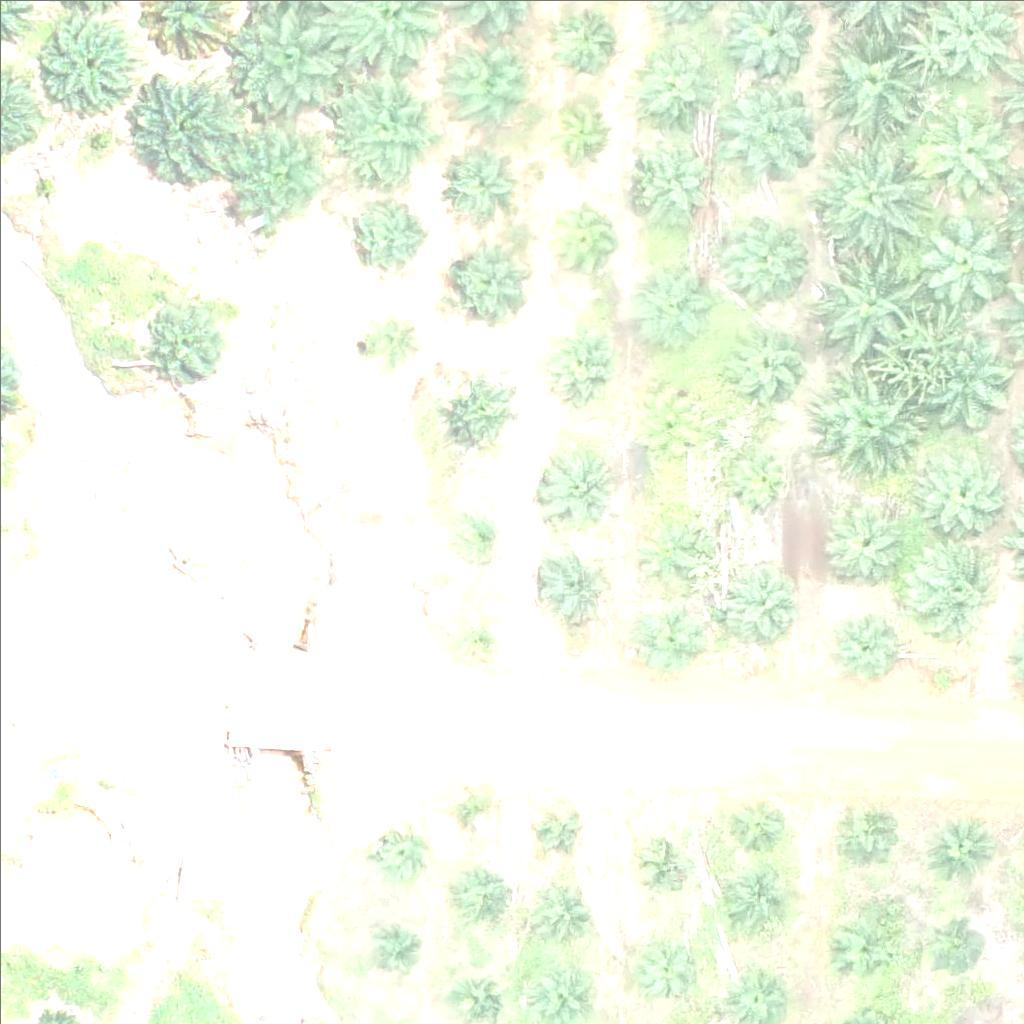Kelapa_Sawit: (121, 68, 246, 194), (811, 134, 924, 247), (220, 117, 332, 231), (31, 1, 143, 115), (330, 66, 442, 179), (815, 247, 915, 348), (824, 35, 924, 136), (443, 23, 543, 123), (821, 371, 921, 471), (899, 535, 999, 635), (441, 230, 529, 318), (629, 37, 717, 125), (723, 80, 811, 168), (916, 213, 1004, 301), (718, 210, 805, 299), (914, 446, 1001, 535), (438, 133, 525, 221), (140, 291, 227, 379), (631, 129, 718, 217), (925, 107, 1012, 195), (926, 340, 1013, 428), (715, 558, 802, 646), (820, 501, 907, 589), (537, 548, 612, 624), (827, 603, 902, 679), (446, 367, 521, 443), (548, 3, 623, 79), (542, 91, 617, 167), (344, 204, 419, 280), (537, 451, 612, 527), (729, 325, 804, 400), (632, 261, 707, 336), (545, 334, 620, 409), (539, 201, 614, 276), (931, 814, 994, 877), (835, 916, 898, 979), (837, 809, 900, 872), (921, 909, 984, 972), (725, 792, 788, 855), (636, 611, 699, 674), (445, 865, 508, 928), (531, 880, 594, 943), (640, 389, 703, 452), (722, 870, 784, 933), (631, 515, 693, 578), (636, 928, 698, 991), (631, 830, 693, 893), (352, 308, 414, 371), (732, 450, 794, 512), (531, 807, 581, 858), (445, 786, 495, 837), (374, 821, 424, 871), (364, 926, 414, 976), (452, 613, 502, 663), (456, 506, 506, 556)
